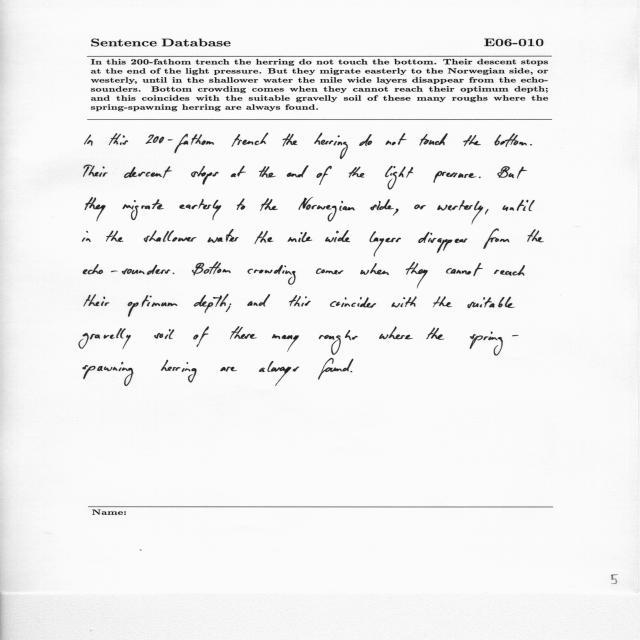word: (298, 197, 355, 222), (146, 134, 214, 153), (83, 362, 134, 386), (470, 332, 519, 356), (438, 201, 484, 225), (128, 295, 178, 317), (79, 328, 131, 349), (418, 232, 468, 253), (259, 361, 299, 386), (319, 330, 358, 355), (248, 265, 296, 285), (83, 264, 170, 275), (314, 133, 348, 159), (122, 200, 164, 221), (180, 199, 222, 220), (369, 231, 401, 257), (161, 360, 197, 383), (318, 358, 353, 380), (385, 166, 413, 190), (194, 294, 229, 313), (124, 166, 172, 178), (144, 231, 196, 242), (406, 262, 428, 288), (192, 262, 230, 276), (467, 297, 515, 308), (85, 197, 106, 222), (484, 229, 510, 249), (434, 171, 477, 183), (191, 166, 218, 185), (330, 297, 376, 308), (232, 133, 268, 147), (272, 334, 299, 352), (446, 263, 483, 276), (494, 133, 527, 147), (379, 327, 413, 340), (208, 229, 239, 243), (497, 166, 527, 179), (419, 133, 448, 146), (502, 200, 535, 211), (230, 326, 257, 339), (360, 263, 389, 275), (494, 265, 525, 276), (193, 326, 209, 347), (83, 165, 108, 177), (325, 230, 350, 242), (84, 295, 109, 307), (247, 294, 270, 307), (391, 297, 417, 308), (317, 166, 332, 185), (370, 199, 394, 210), (386, 133, 407, 145), (287, 166, 308, 178), (289, 295, 310, 307), (288, 232, 313, 242), (255, 231, 274, 244), (260, 198, 278, 211), (427, 327, 445, 340), (109, 133, 128, 145), (527, 230, 544, 243), (433, 297, 452, 308), (259, 166, 276, 178), (154, 329, 174, 339), (463, 135, 481, 146), (283, 134, 298, 147), (106, 231, 123, 242), (349, 167, 365, 178), (231, 166, 246, 177), (316, 269, 343, 275), (359, 134, 372, 146), (84, 135, 93, 146), (82, 231, 91, 242), (237, 198, 245, 210), (220, 367, 237, 372), (414, 205, 426, 210), (226, 303, 231, 312), (393, 209, 399, 216), (485, 209, 488, 215), (530, 144, 532, 145), (479, 177, 481, 178), (173, 273, 175, 274), (351, 371, 353, 372)
